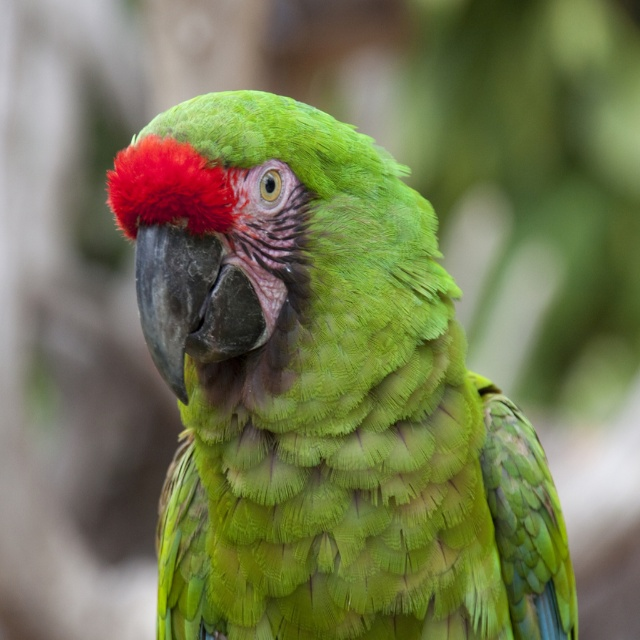Parrot: (84, 76, 586, 640)
